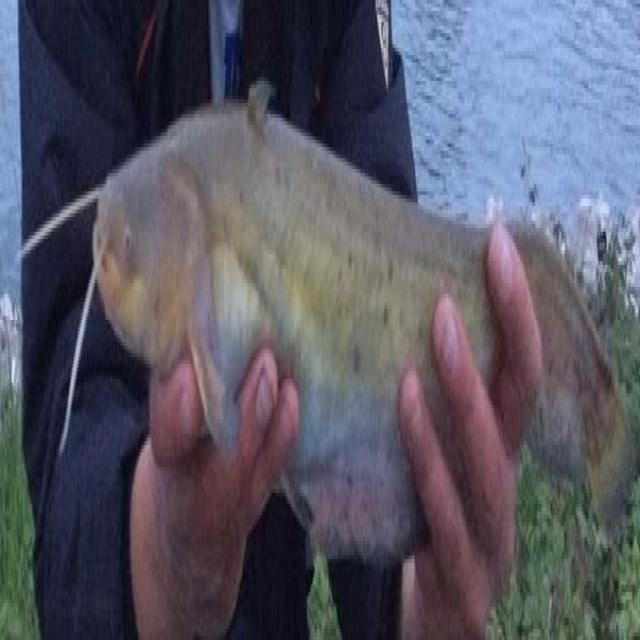Catfish: (22, 66, 634, 600)
